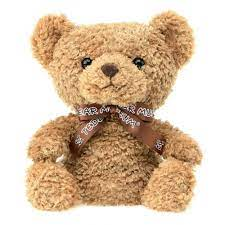teddy: (8, 2, 216, 223)
